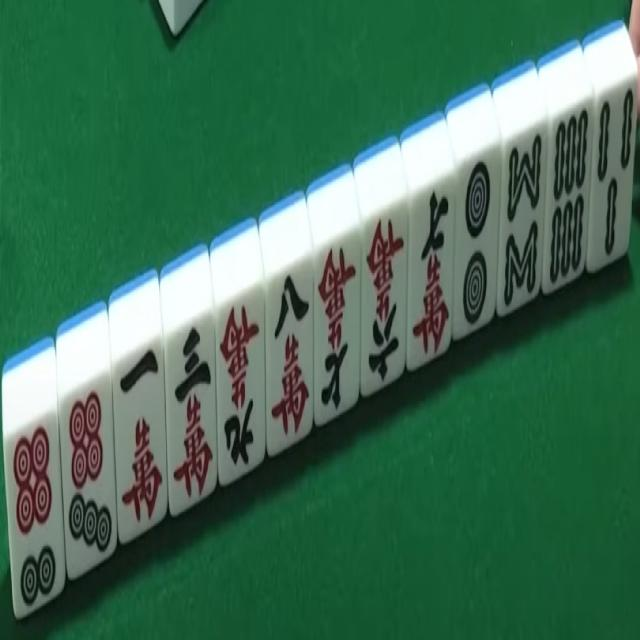m1: (114, 341, 166, 524)
m3: (168, 308, 215, 505)
m6: (361, 204, 406, 396)
m7: (408, 172, 452, 371), (318, 241, 358, 417)
m8: (266, 268, 316, 452)
m9: (217, 292, 262, 482)
s3: (595, 83, 638, 266)
s6: (549, 110, 588, 286)
s8: (496, 127, 544, 313)
t2: (454, 156, 496, 337)
t6: (10, 419, 58, 604)
t7: (66, 386, 112, 560)
